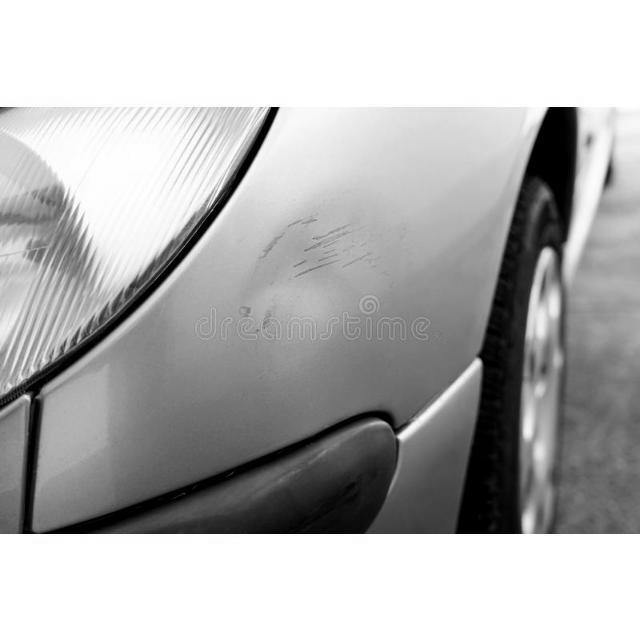front-bumper-dent: (69, 107, 608, 458)
